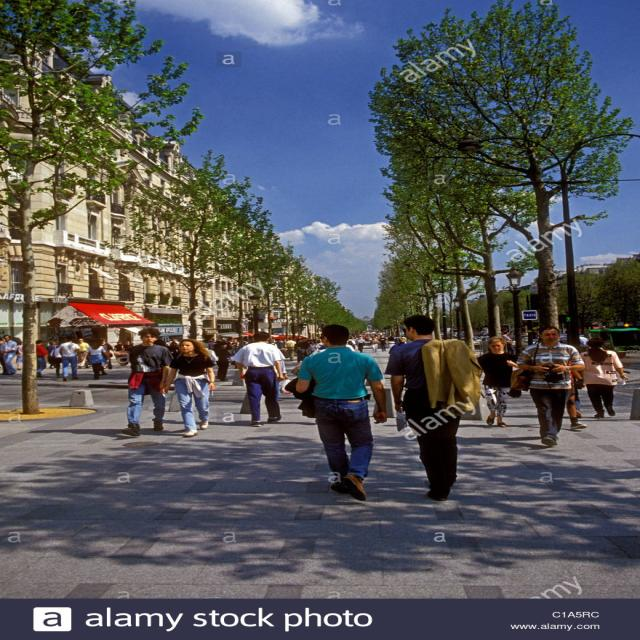body: (382, 314, 486, 502), (283, 324, 389, 502), (509, 325, 588, 447), (112, 326, 176, 437), (157, 338, 219, 437), (377, 417, 550, 450), (232, 330, 287, 427), (148, 331, 394, 350), (577, 337, 630, 419), (476, 335, 520, 427), (557, 339, 589, 431), (436, 328, 534, 349), (77, 338, 111, 382), (57, 335, 83, 382), (210, 341, 232, 381), (0, 333, 19, 376), (46, 344, 63, 378), (35, 339, 49, 378), (100, 338, 116, 371), (76, 338, 91, 370), (388, 337, 410, 355), (501, 330, 514, 354), (284, 337, 296, 361), (292, 338, 304, 362), (45, 341, 55, 369), (121, 341, 134, 362), (308, 339, 322, 354), (298, 337, 311, 353), (368, 336, 379, 354), (377, 334, 387, 352), (356, 337, 366, 353), (346, 337, 356, 350), (267, 338, 278, 348), (113, 341, 123, 351), (279, 339, 286, 349)
